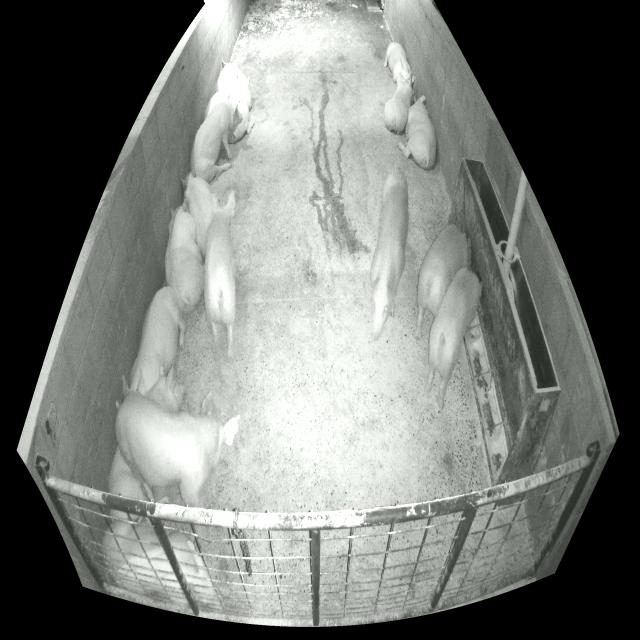pig: (115, 389, 240, 508), (109, 359, 184, 523), (103, 519, 215, 609), (425, 267, 483, 409), (364, 169, 408, 343), (123, 287, 186, 396), (415, 225, 468, 340), (204, 191, 236, 359), (190, 94, 242, 183), (165, 199, 204, 313), (181, 169, 219, 256), (216, 60, 255, 143), (397, 95, 436, 169), (384, 72, 414, 133), (384, 42, 411, 86), (204, 92, 228, 120)
